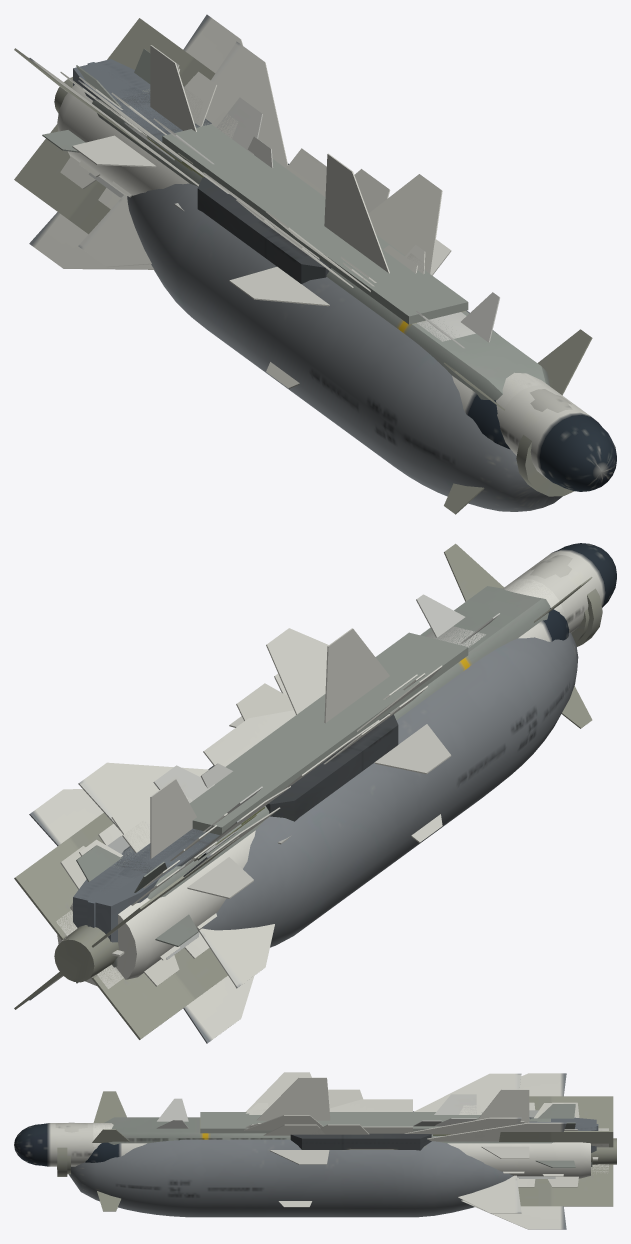
File: FA-18_Stores.glb
3 views of the same model, one above another, from view 1: azimuth 30°, elevation 25°; view 2: azimuth 150°, elevation 25°; view 3: azimuth 270°, elevation 25° (orthographic). The views are drawn at different scales.
Visible parts, largest first — view 1: Store_TANK-330, Store_AGM-154A, Store_GBU-24, Store_AGM-62II, Store_AIM-7M, Store_AGM-84E, Store_AGM-62, Store_AGM-88, Equip_BRU-33, Equip_LAU-117, Store_ACMI, Store_AIM-120A (+4 smaller); view 2: Store_TANK-330, Store_AGM-154A, Store_GBU-24, Store_AGM-62II, Store_AIM-7M, Store_AGM-84E, Store_AGM-62, Store_AGM-88, Equip_BRU-33, Equip_LAU-117, Store_AGM-65E, Store_ACMI (+5 smaller); view 3: Store_TANK-330, Store_GBU-24, Store_AGM-62II, Store_AGM-154A, Store_AIM-7M, Store_AGM-84E, Store_AGM-62, Equip_BRU-33, Store_AGM-88, Store_ACMI, Store_AGM-65E, Store_AGM-84D (+4 smaller).
Boxes of the visible parts, x1,y1,x2,y2 form: Store_TANK-330: [127, 183, 562, 511]; Store_AGM-154A: [42, 49, 550, 400]; Store_GBU-24: [14, 18, 592, 514]; Store_AGM-62II: [29, 14, 510, 449]; Store_AIM-7M: [72, 45, 451, 306]; Store_AGM-84E: [60, 51, 616, 491]; Store_AGM-62: [78, 41, 288, 267]; Store_AGM-88: [79, 68, 572, 412]; Equip_BRU-33: [197, 163, 330, 283]; Equip_LAU-117: [73, 59, 209, 140]; Store_ACMI: [153, 97, 499, 348]; Store_AIM-120A: [111, 71, 425, 278]; Store_TANK-330: [202, 632, 578, 947]; Store_AGM-154A: [76, 586, 550, 983]; Store_GBU-24: [14, 543, 602, 1039]; Store_AGM-62II: [29, 607, 569, 1043]; Store_AIM-7M: [150, 628, 451, 898]; Store_AGM-84E: [60, 543, 616, 986]; Store_AGM-62: [78, 762, 290, 988]; Store_AGM-88: [79, 554, 572, 960]; Equip_BRU-33: [208, 713, 398, 821]; Equip_LAU-117: [73, 829, 218, 942]; Store_AGM-65E: [203, 710, 379, 790]; Store_ACMI: [153, 594, 499, 813]; Store_TANK-330: [69, 1139, 513, 1217]; Store_GBU-24: [57, 1091, 616, 1211]; Store_AGM-62II: [85, 1073, 598, 1229]; Store_AGM-154A: [104, 1104, 592, 1167]; Store_AIM-7M: [256, 1077, 529, 1164]; Store_AGM-84E: [14, 1089, 579, 1187]; Store_AGM-62: [404, 1073, 521, 1213]; Equip_BRU-33: [290, 1111, 431, 1150]; Store_AGM-88: [55, 1072, 563, 1207]; Store_ACMI: [156, 1094, 476, 1128]; Store_AGM-65E: [329, 1099, 412, 1133]; Store_AGM-84D: [93, 1102, 535, 1187].
Size of the model in its own units: 1.02 by 1.17 by 4.71.
1 material, 1 textured.
